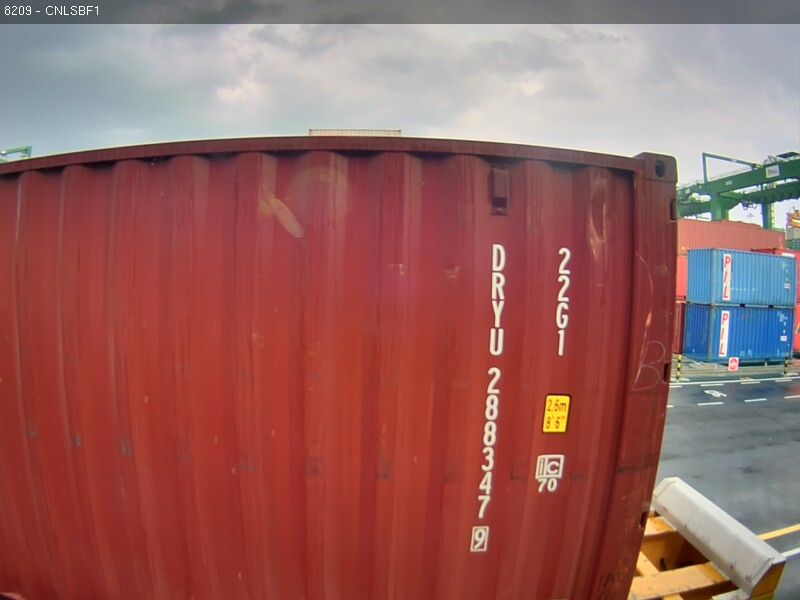container_no_door: (47, 125, 553, 570)
